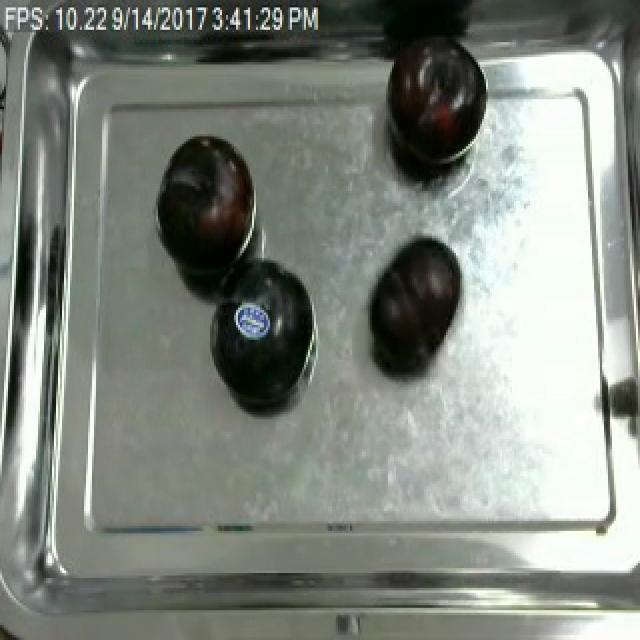Fruit: (208, 246, 318, 412), (378, 32, 490, 179), (152, 134, 258, 280), (364, 230, 464, 380)
